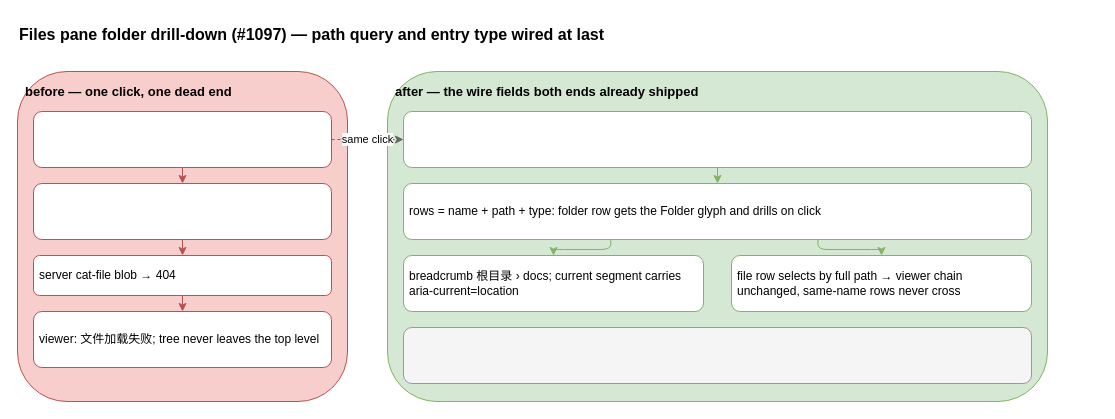
This 1115x419 diagram has some shape labels left out. The shapes that lost their labels are listed below. From the top down, each one's box as (x1, y1, x2, y2) in pixels, then its label:
(32, 110, 332, 168): click a folder row — same FileTab glyph as files, key = bare name
(402, 110, 1032, 168): route forwards path: GET /tree?path=docs → readTree / lsTree one layer
(32, 182, 332, 240): GET /file?path=docs — directory name read as a file path
(402, 326, 1032, 384): states: empty → 此目录为空。 · in-flight → 加载中… · read fail → 文件树读取失败。
